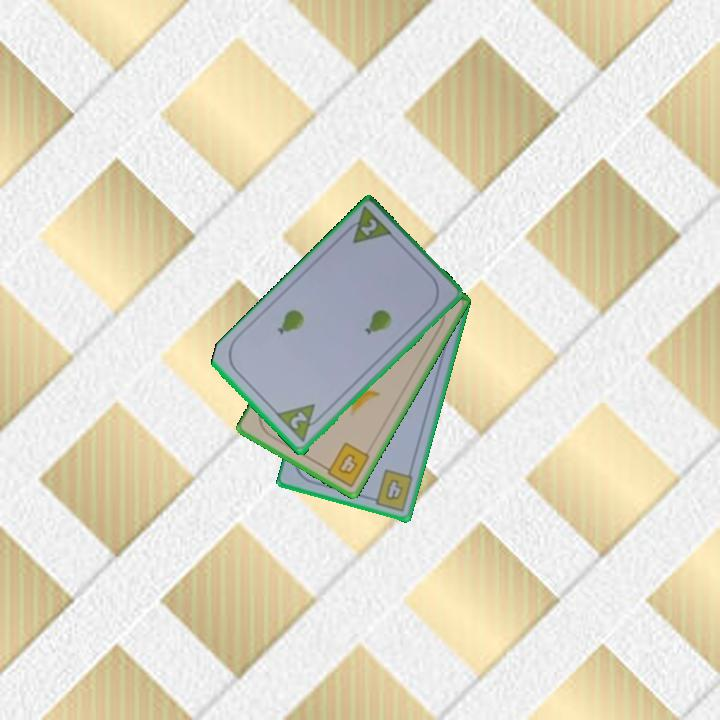2p: (339, 204, 396, 247), (287, 408, 310, 433)
4b: (318, 439, 373, 490), (365, 466, 416, 514)
